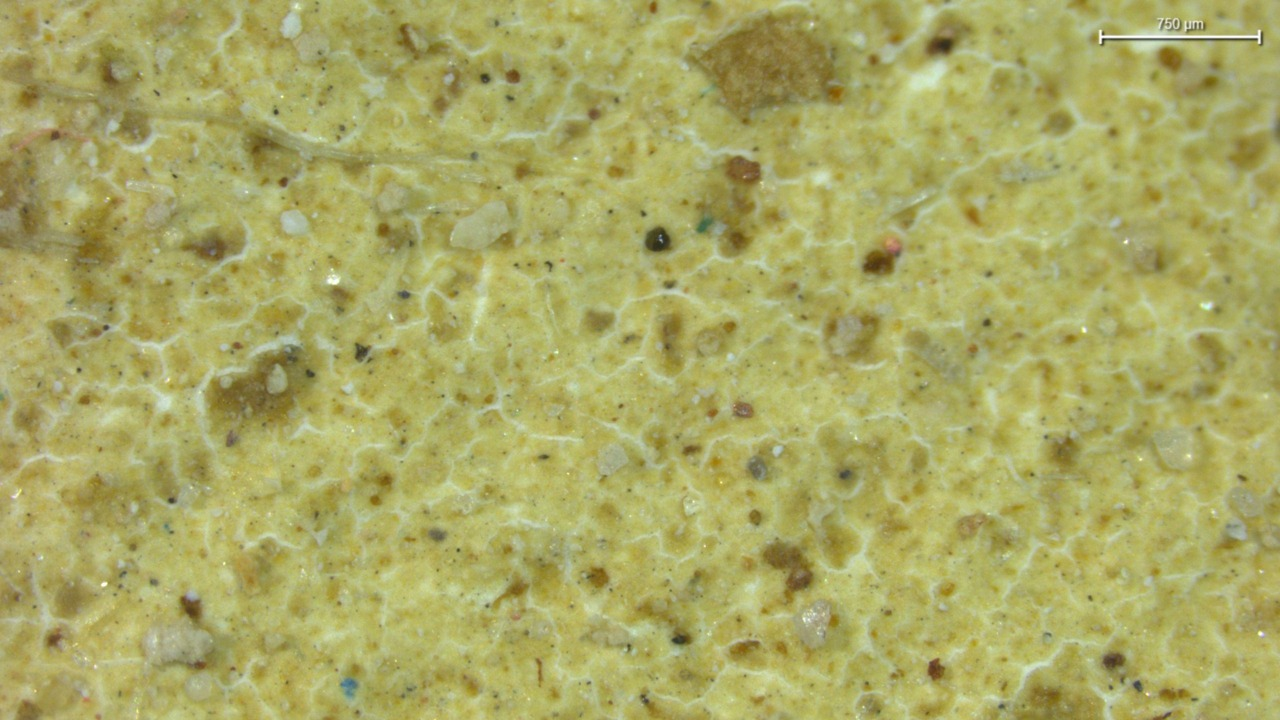microplastic_fragment: (143, 618, 213, 665), (450, 201, 513, 250)
